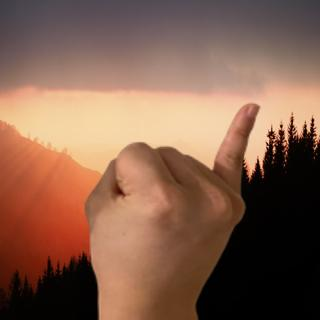FINE: (79, 97, 262, 307)
